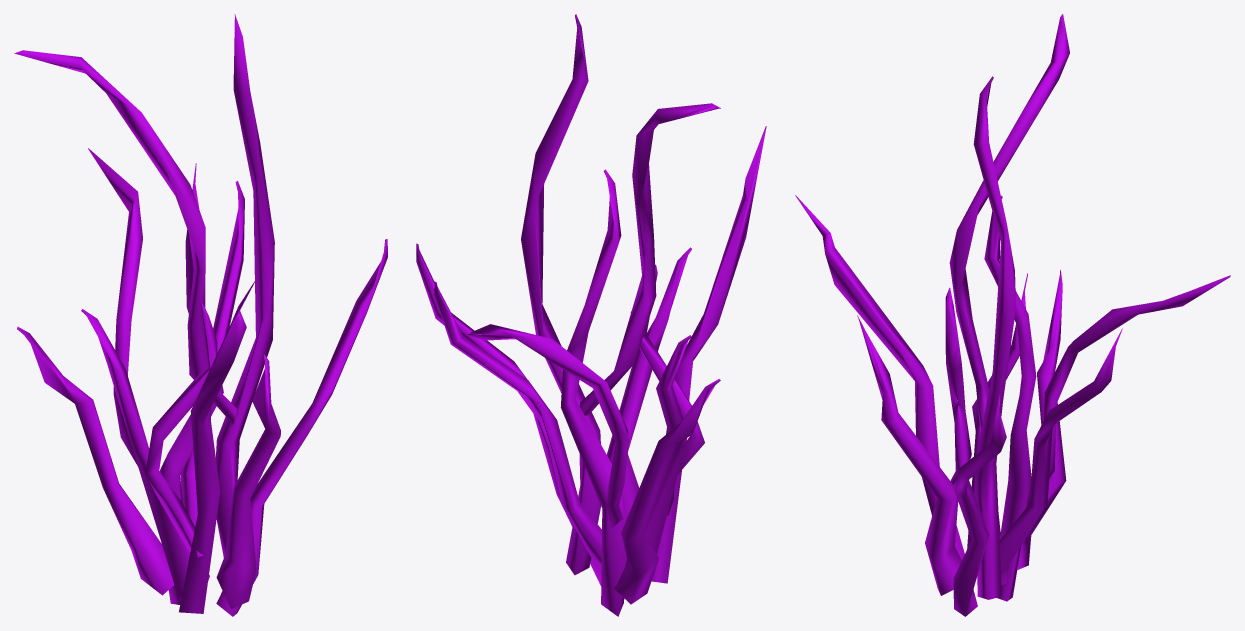
File: plant1-lod2.fbx
3 views of the same model, side by side, from view 1: azimuth 30°, elevation 25°; view 2: azimuth 150°, elevation 25°; view 3: azimuth 270°, elevation 25° (orthographic). The views are drawn at different scales.
Parts seen in each view (by area): view 1: plant1-lod2; view 2: plant1-lod2; view 3: plant1-lod2.
Part boxes in pixels (x1,y1,x2,y2): plant1-lod2: (14,14,387,616); plant1-lod2: (416,14,766,616); plant1-lod2: (795,14,1230,616).
Size of the model in its own units: 1.77 by 2.92 by 2.11.
